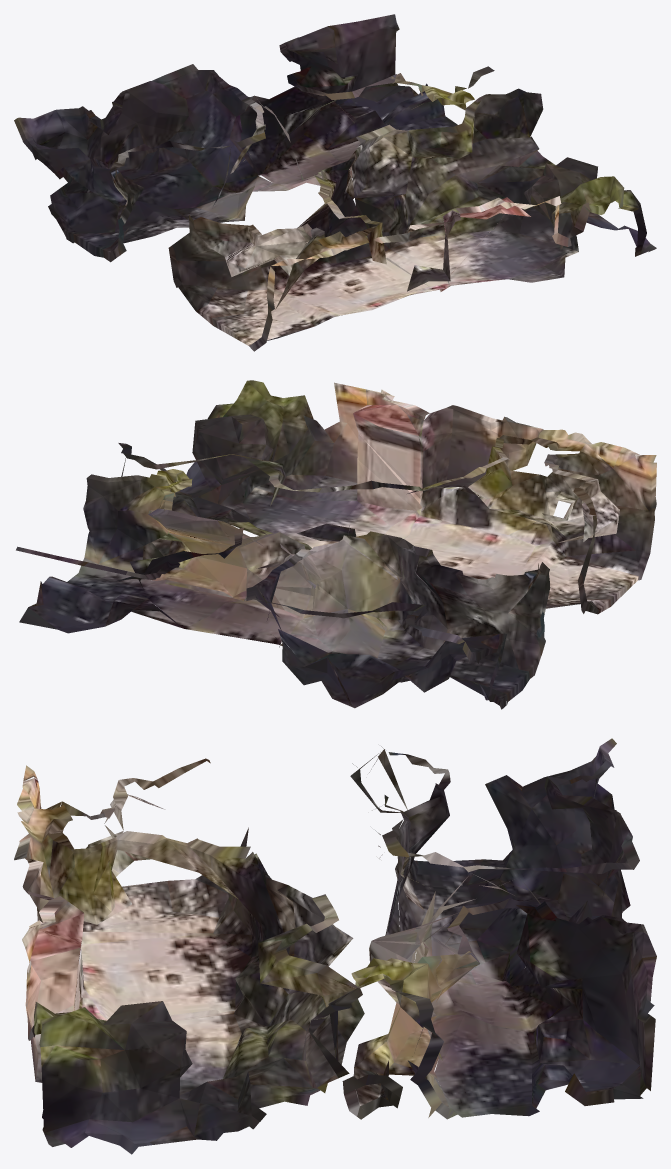
3 renders of one model, top to bottom at view 1: azimuth 30°, elevation 25°; view 2: azimuth 150°, elevation 25°; view 3: azimuth 270°, elevation 25°, orthographic. The views are drawn at different scales.
Parts seen in each view (by area): view 1: Mesh_0; view 2: Mesh_0; view 3: Mesh_0.
Part boxes in pixels (bbox=[...]): Mesh_0: bbox=[14, 14, 656, 351]; Mesh_0: bbox=[16, 380, 656, 709]; Mesh_0: bbox=[14, 738, 656, 1154].
Bounding box in the file's own units: 32.4 × 7.61 × 30.38.
Materials: 1 (1 with a texture image).
